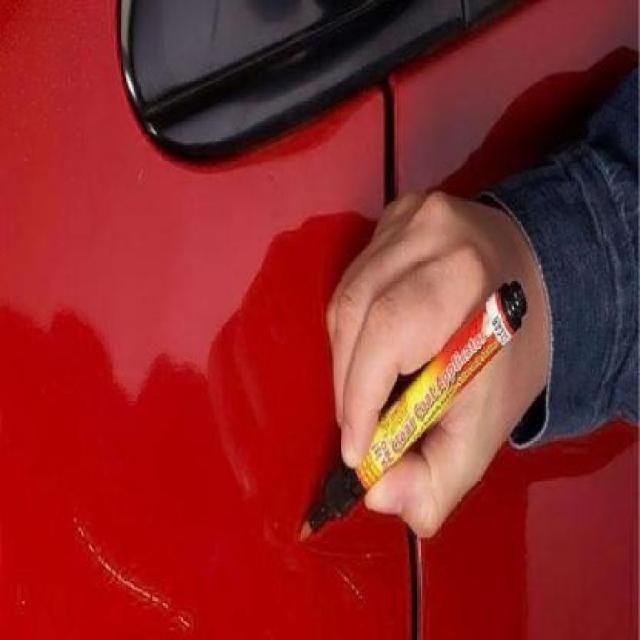scratch: (55, 497, 199, 638)
